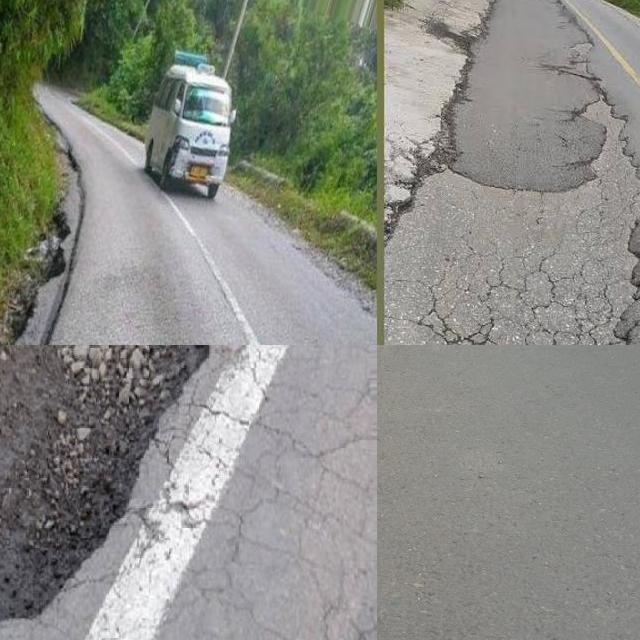Pinggir: (0, 345, 243, 640), (386, 0, 524, 340), (0, 173, 107, 345)
